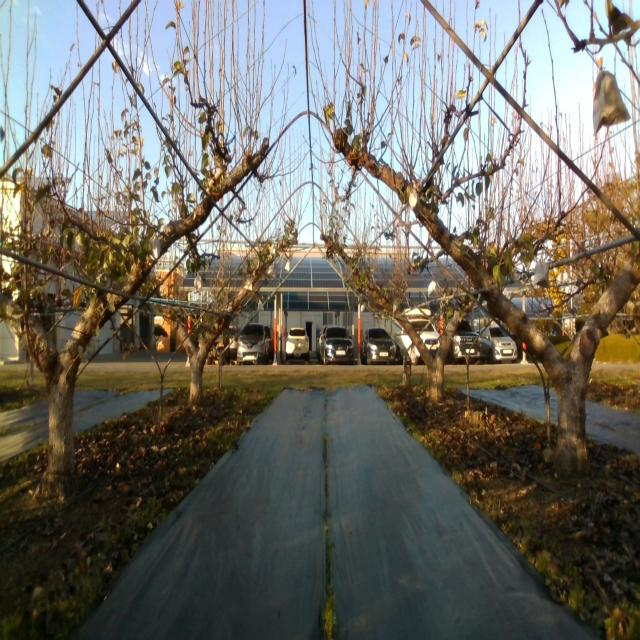pearbags: (593, 70, 631, 137), (534, 258, 550, 289)
